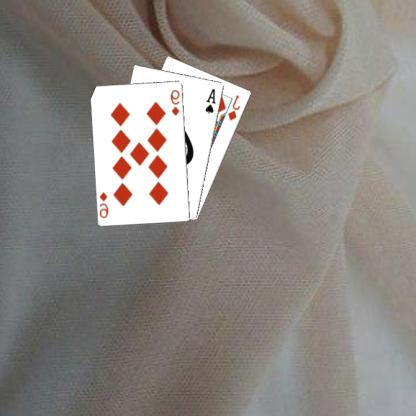9D: (98, 189, 112, 219), (170, 87, 182, 117)
AS: (205, 86, 219, 114)
JD: (228, 92, 244, 122)
